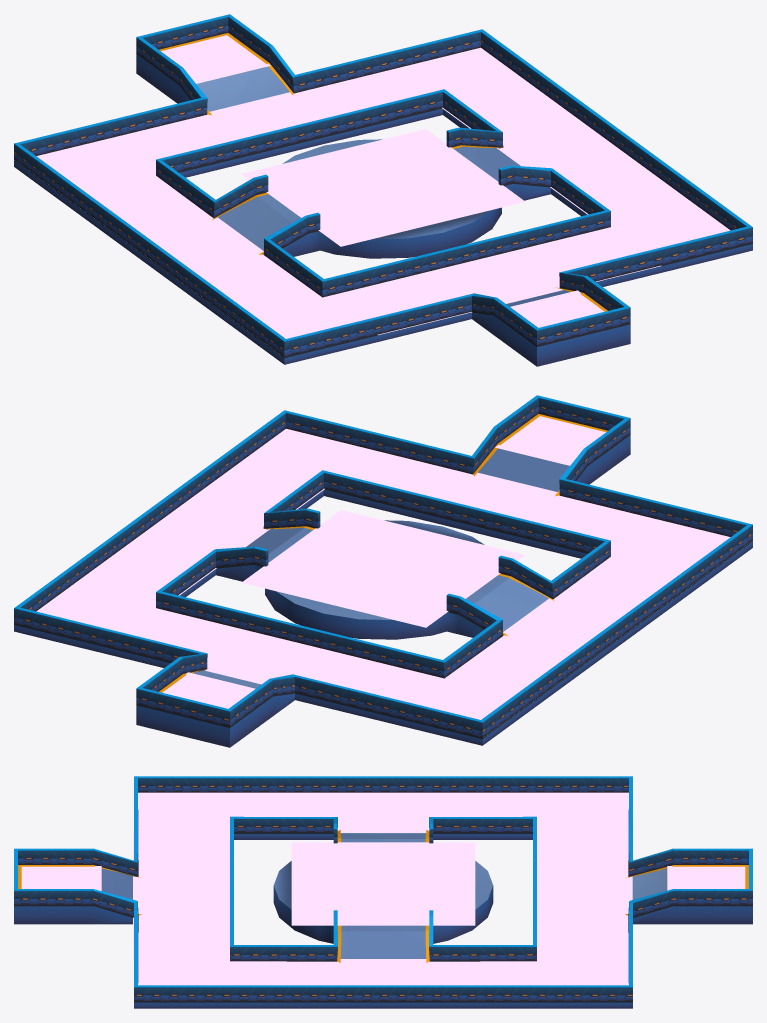
Rendered from Battle_Stage 10.fbx.
3 renders of one model, top to bottom at view 1: azimuth 30°, elevation 25°; view 2: azimuth 150°, elevation 25°; view 3: azimuth 270°, elevation 25°, orthographic. The views are drawn at different scales.
Parts seen in each view (by area): view 1: Cylinder.006, Cylinder.005, Plane.048, Plane.044, Plane.047, Plane.050, Plane.049, Plane.045, Plane.046, Cylinder.007; view 2: Cylinder.006, Cylinder.005, Plane.048, Plane.044, Plane.047, Plane.049, Plane.050, Plane.046, Plane.045, Cylinder.007; view 3: Cylinder.006, Cylinder.005, Plane.047, Plane.044, Plane.048, Plane.050, Plane.049, Plane.046, Plane.045, Cylinder.007, Cylinder.008.
Boxes of the visible parts, box(x1,y1,x2,y2) form: Cylinder.006: box(14, 14, 752, 358); Cylinder.005: box(14, 54, 752, 366); Plane.048: box(390, 47, 730, 251); Plane.044: box(242, 129, 525, 246); Plane.047: box(34, 138, 358, 350); Plane.050: box(326, 227, 661, 335); Plane.049: box(110, 69, 423, 172); Plane.045: box(161, 35, 270, 83); Plane.046: box(510, 290, 604, 327); Cylinder.007: box(159, 33, 607, 311); Cylinder.006: box(14, 395, 752, 739); Cylinder.005: box(14, 435, 752, 747); Plane.048: box(36, 428, 376, 633); Plane.044: box(241, 510, 524, 627); Plane.047: box(408, 519, 732, 731); Plane.049: box(125, 609, 440, 702); Plane.050: box(342, 450, 656, 553); Plane.046: box(495, 416, 605, 465); Plane.045: box(162, 672, 255, 708); Cylinder.007: box(159, 414, 607, 692); Cylinder.006: box(14, 776, 752, 1002); Cylinder.005: box(14, 833, 752, 1008); Plane.047: box(138, 792, 628, 832); Plane.044: box(291, 842, 475, 925); Plane.048: box(138, 959, 628, 985); Plane.050: box(133, 833, 229, 960); Plane.049: box(537, 833, 632, 959); Plane.046: box(21, 866, 101, 890); Plane.045: box(667, 866, 745, 890); Cylinder.007: box(18, 865, 748, 915); Cylinder.008: box(337, 830, 429, 962).
Bounding box in the file's own units: 7502 × 557 × 11112.
